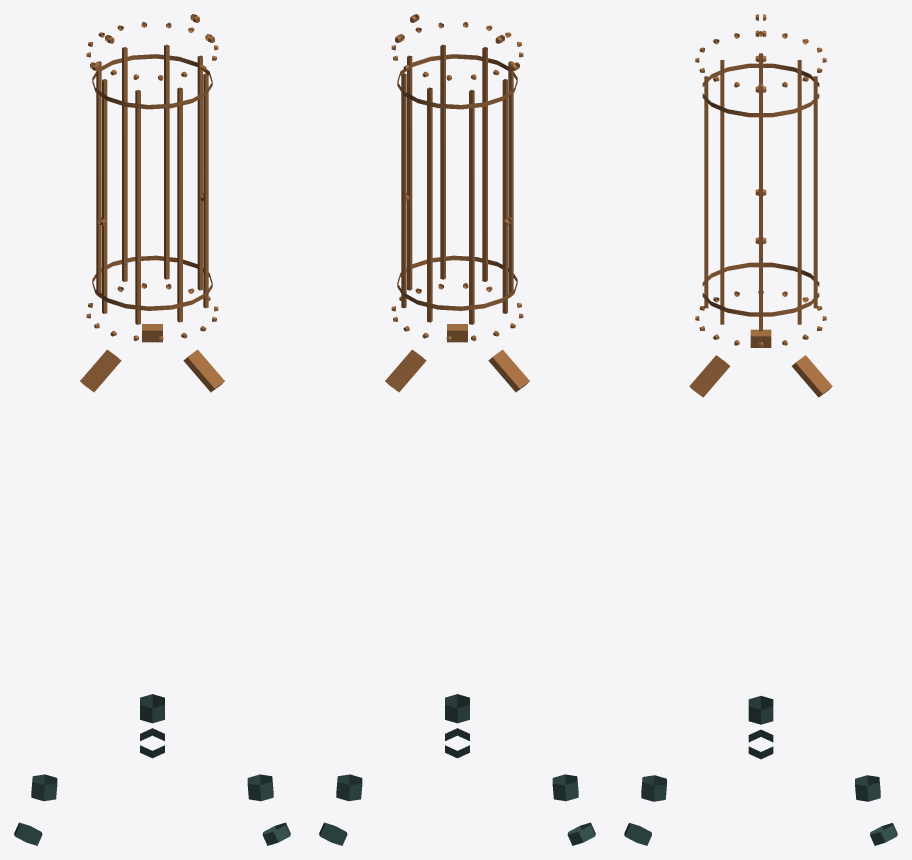
File: lantern_beacon_detail2.glb
3 views of the same model, side by side, from view 1: azimuth 30°, elevation 25°; view 2: azimuth 150°, elevation 25°; view 3: azimuth 270°, elevation 25° (orthographic).
Parts seen in each view (by area): view 1: Detail2; view 2: Detail2; view 3: Detail2.
Boxes of the visible parts, x1,y1,x2,y2 form: Detail2: (14,14,290,845); Detail2: (319,14,595,845); Detail2: (624,14,897,845).
Bounding box in the file's own units: 4.98 × 17.63 × 5.6.
